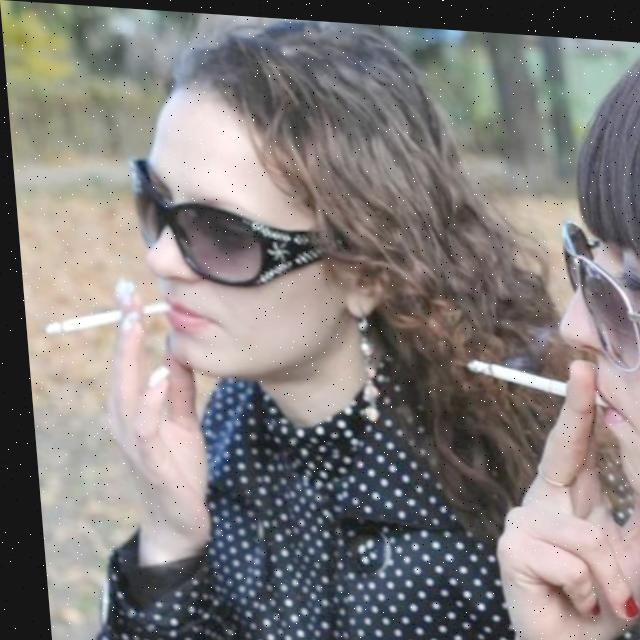cigarette: (460, 352, 603, 401), (37, 293, 169, 340)
